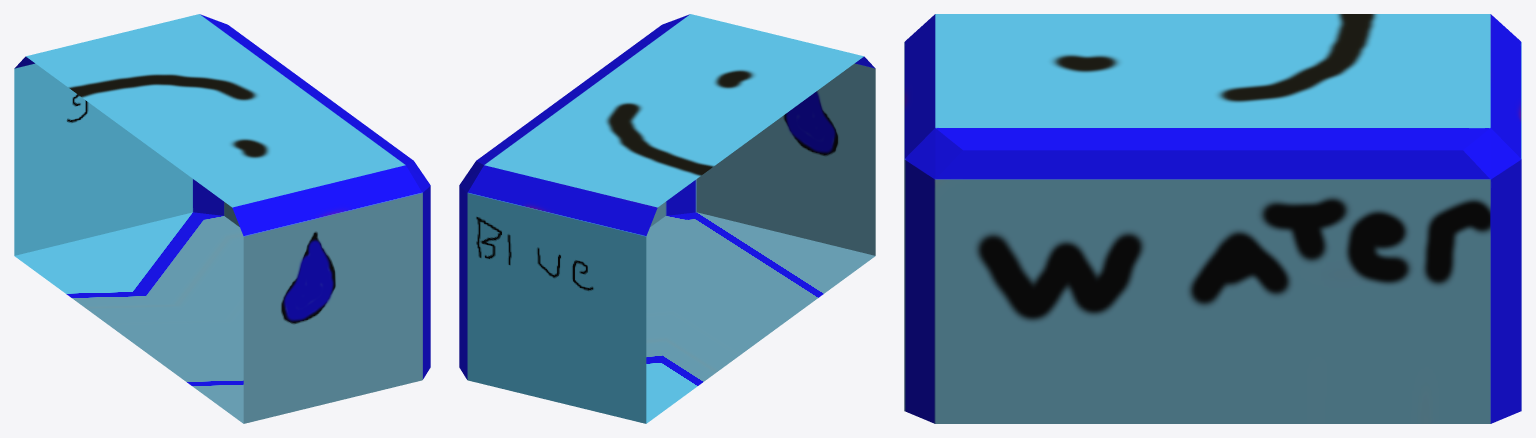
File: waterblock.dae
3 views of the same model, side by side, from view 1: azimuth 30°, elevation 25°; view 2: azimuth 150°, elevation 25°; view 3: azimuth 270°, elevation 25° (orthographic). The views are drawn at different scales.
Parts seen in each view (by area): view 1: Cube; view 2: Cube; view 3: Cube.
Part boxes in pixels (left/top/right/bottom): Cube: left=14, top=14, right=430, bottom=423; Cube: left=459, top=14, right=875, bottom=423; Cube: left=904, top=14, right=1521, bottom=423.
Bounding box in the file's own units: 0.9988 × 2 × 1.
1 material, 1 textured.
